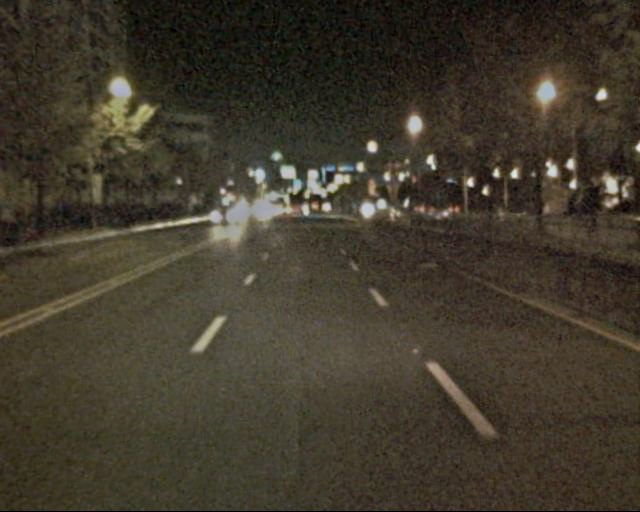person: (576, 178, 605, 239), (566, 184, 588, 236)
